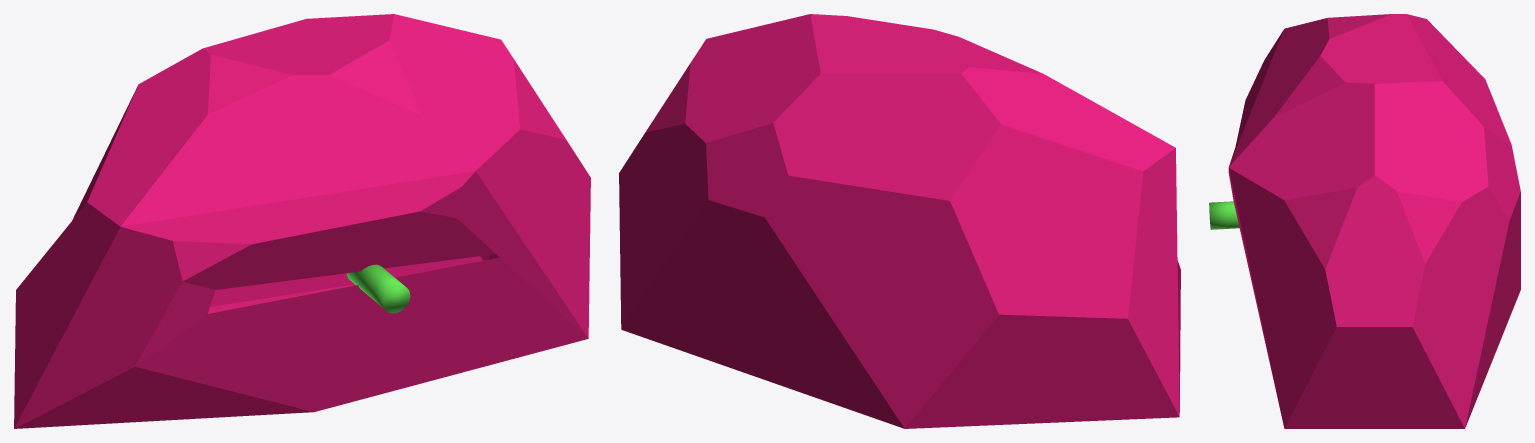
File: Stoned.fbx
The picture shows the model from 3 angles, left to right: view 1: azimuth 30°, elevation 25°; view 2: azimuth 150°, elevation 25°; view 3: azimuth 270°, elevation 25°; orthographic projection. The views are drawn at different scales.
Visible parts, largest first — view 1: Icosphere, Cylinder; view 2: Icosphere; view 3: Icosphere, Cylinder.
Boxes of the visible parts, left/top/right/bottom form: Icosphere: left=14, top=14, right=590, bottom=428; Cylinder: left=346, top=264, right=410, bottom=313; Icosphere: left=619, top=14, right=1180, bottom=428; Icosphere: left=1228, top=14, right=1520, bottom=428; Cylinder: left=1209, top=201, right=1239, bottom=229.
Bounding box in the file's own units: 329 × 182 × 181.
